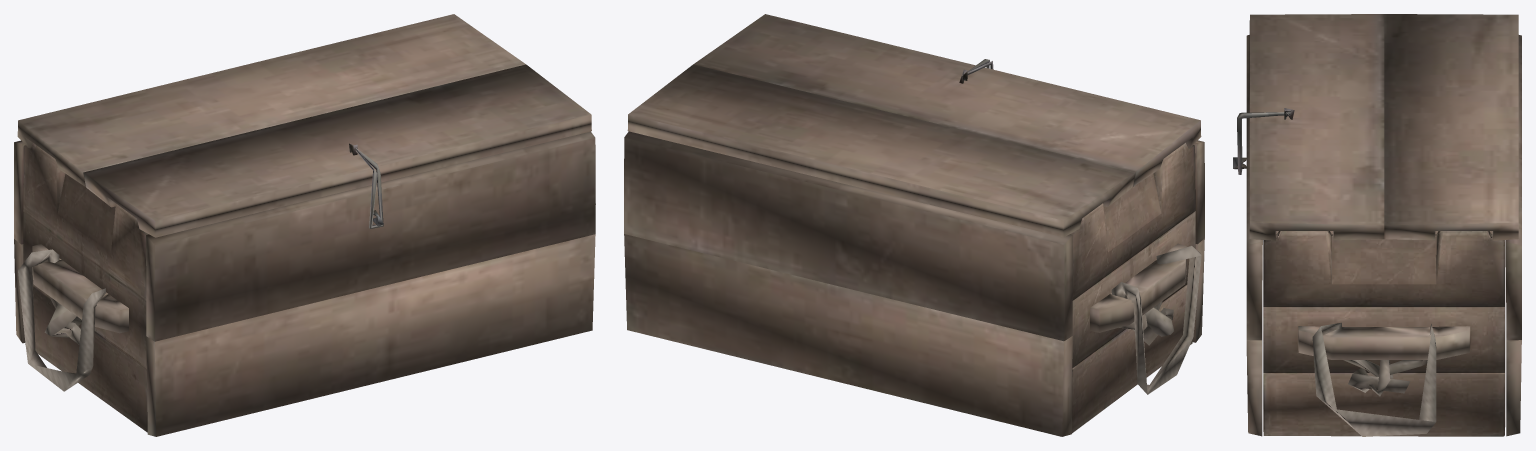
Rendered from wooden_crate_01.glb.
3 views of the same model, side by side, from view 1: azimuth 30°, elevation 25°; view 2: azimuth 150°, elevation 25°; view 3: azimuth 270°, elevation 25° (orthographic). The views are drawn at different scales.
Visible parts, largest first — view 1: wooden_crate_01_lid; view 2: wooden_crate_01_lid; view 3: wooden_crate_01_lid.
Part boxes in pixels (x1,y1,x2,y2): wooden_crate_01_lid: (14,14,595,436); wooden_crate_01_lid: (624,14,1204,436); wooden_crate_01_lid: (1233,14,1521,436).
Bounding box in the file's own units: 0.8207 × 0.3469 × 0.4043.
1 material, 1 textured.
